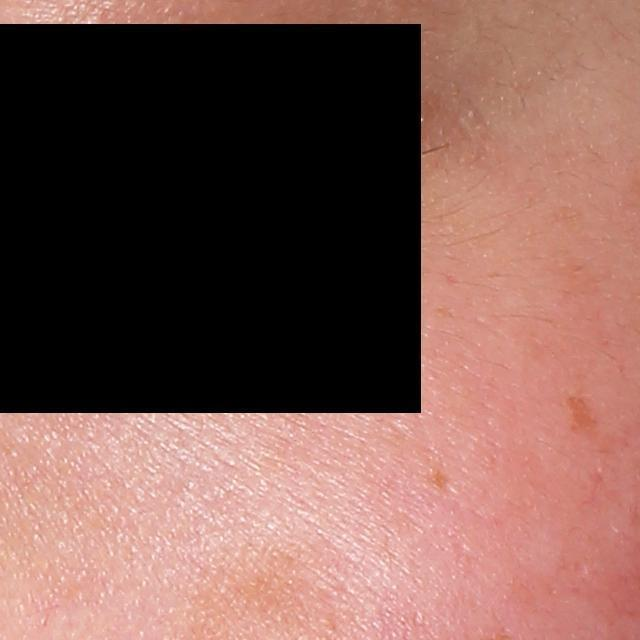melasma: (550, 256, 602, 302), (559, 394, 602, 447), (423, 468, 447, 496)
